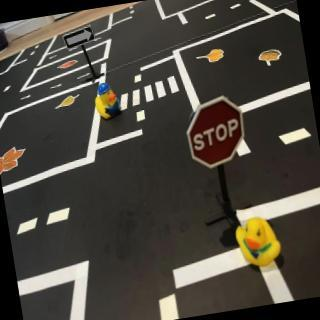duck_regular: (235, 216, 286, 273)
duck_specialty: (94, 81, 125, 123)
road_crosswalk: (116, 74, 185, 114)
road_oneway: (76, 72, 94, 83), (19, 94, 34, 103), (50, 84, 65, 92), (48, 54, 59, 62), (93, 36, 105, 43), (68, 47, 80, 54)
sign_oneway_right: (63, 24, 99, 52)
sign_stop: (183, 94, 252, 174)
